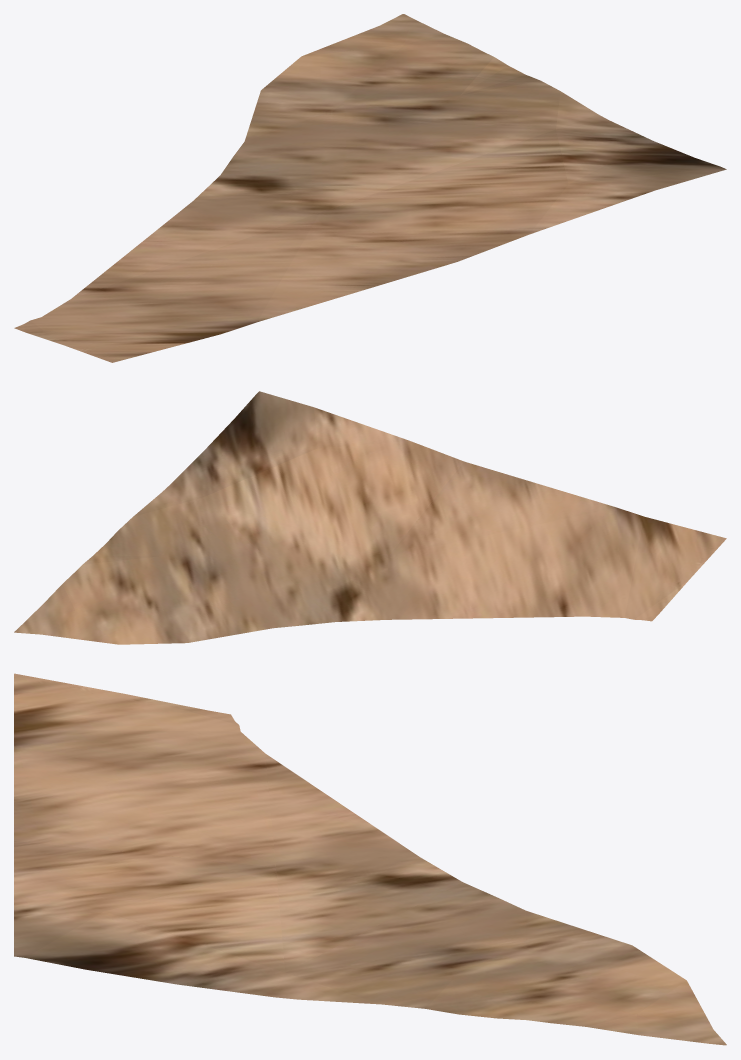
3 renders of one model, top to bottom at view 1: azimuth 30°, elevation 25°; view 2: azimuth 150°, elevation 25°; view 3: azimuth 270°, elevation 25°, orthographic. The views are drawn at different scales.
Bounding box in the file's own units: 2.09 × 0.2619 × 1.9.
Materials: 2 (2 with a texture image).
